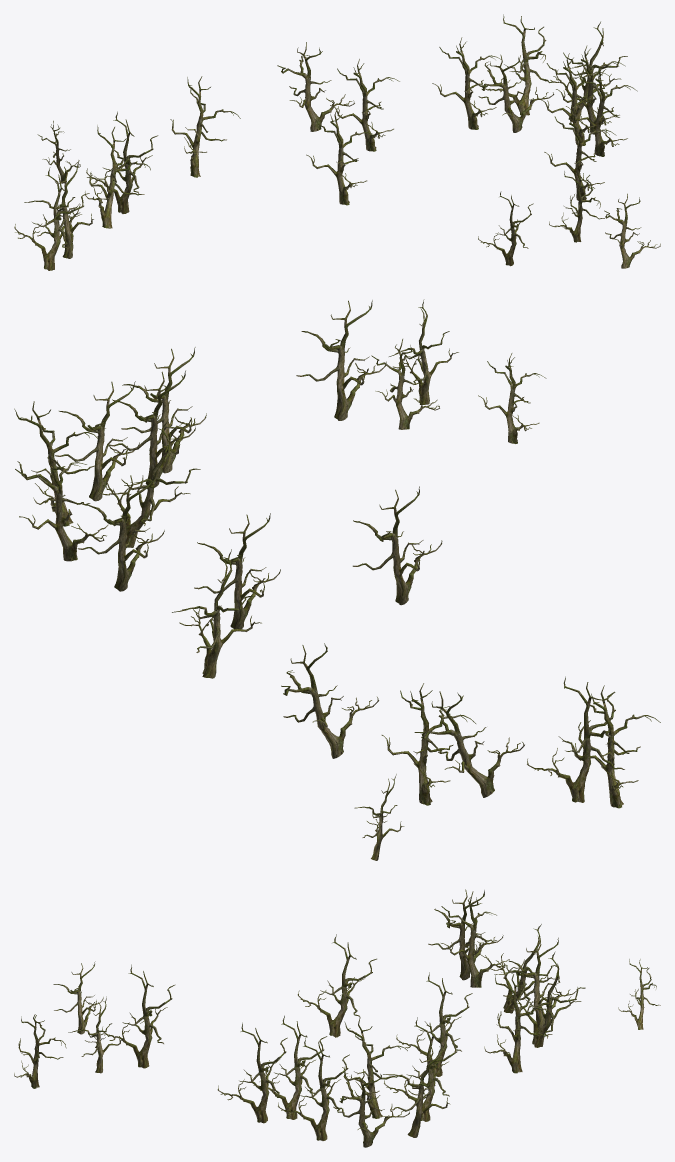
The model's file is treeAc.fbx.
The picture shows the model from 3 angles, top to bottom: view 1: azimuth 30°, elevation 25°; view 2: azimuth 150°, elevation 25°; view 3: azimuth 270°, elevation 25°; orthographic projection. The views are drawn at different scales.
Visible parts, largest first — view 1: m009001_1_16, m009001_1_13, m009001_1_7, m009001_1_9, m009001_1_15, m009001_1_6, m009001_1_5, m009001_1_4, m009001_1_8, m009001_1_2, m009001_1, m009001_1_3 (+8 smaller); view 2: m009001_1_14, m009001_1_13, m009001_1_6, m009001_1_3, m009001_1_7, m009001_1_2, m009001_1_5, m009001_1_11, m009001_1_4, m009001_1_9, m009001_1_8, m009001_1_1 (+7 smaller); view 3: m009001_1_11, m009001_1_5, m009001_1_3, m009001_1, m009001_1_7, m009001_1_1, m009001_1_14, m009001_1_6, m009001_1_8, m009001_1_10, m009001_1_4, m009001_1_2 (+8 smaller).
Part boxes in pixels (x1,y1,x2,y2): m009001_1_16: (14,167,89,270); m009001_1_13: (85,125,150,228); m009001_1_7: (277,42,354,131); m009001_1_9: (481,14,557,115); m009001_1_15: (86,111,158,213); m009001_1_6: (170,76,240,177); m009001_1_5: (306,108,377,205); m009001_1_4: (478,54,554,132); m009001_1_8: (330,59,399,151); m009001_1_2: (432,37,500,129); m009001_1: (566,65,637,156); m009001_1_3: (544,109,616,200); m009001_1_14: (527,676,624,802); m009001_1_13: (414,691,524,797); m009001_1_6: (281,643,379,758); m009001_1_3: (296,300,386,420); m009001_1_7: (172,549,261,678); m009001_1_2: (77,473,164,591); m009001_1_5: (352,486,442,605); m009001_1_11: (55,381,139,501); m009001_1_4: (99,420,200,547); m009001_1_9: (15,449,108,561); m009001_1_8: (194,513,280,629); m009001_1_1: (109,370,195,487); m009001_1_11: (278,1037,349,1140); m009001_1_5: (297,934,376,1037); m009001_1_3: (102,964,175,1068); m009001_1: (217,1022,287,1123); m009001_1_7: (484,974,552,1073); m009001_1_1: (252,1015,327,1119); m009001_1_14: (441,891,509,987); m009001_1_6: (510,951,585,1047); m009001_1_8: (396,972,472,1076); m009001_1_10: (333,1069,409,1147); m009001_1_4: (342,1018,407,1118); m009001_1_2: (384,1017,460,1121).
Bounding box in the file's own units: 638693 × 212052 × 652233.
Materials: 20 (20 with a texture image).
